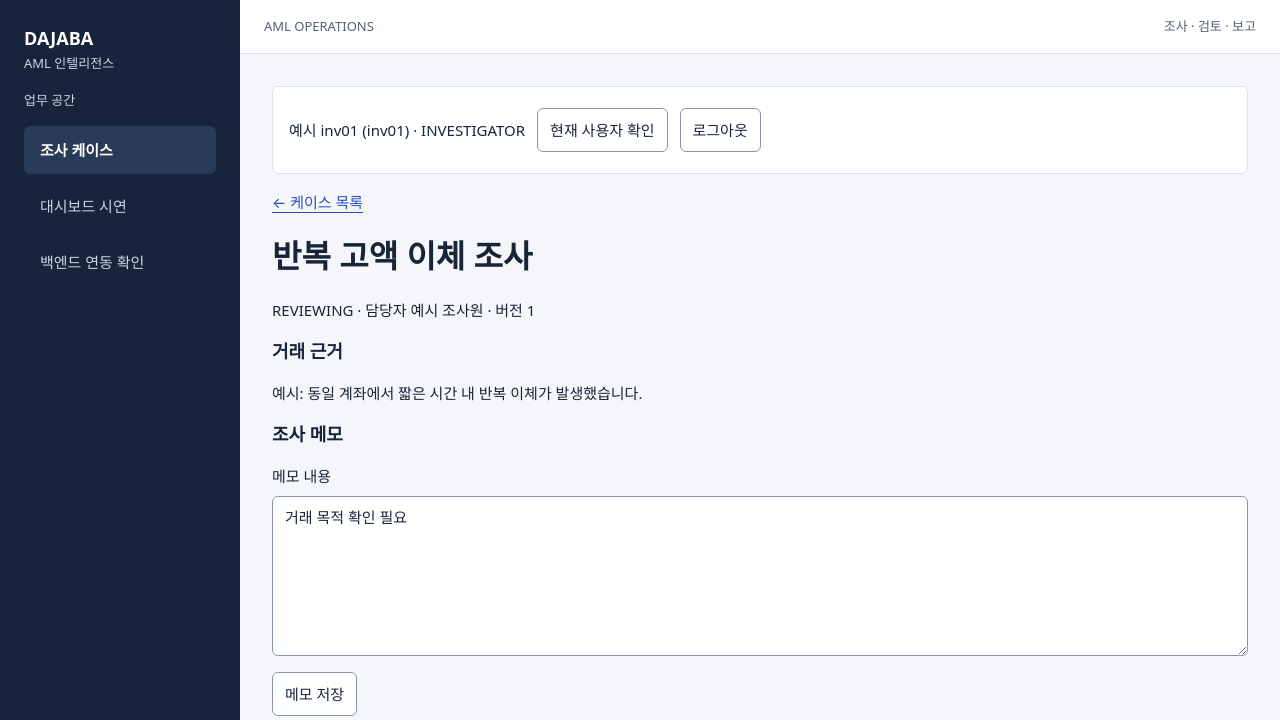
Test: 세션과 업무 정보 격리 › 로그아웃 후 도착하는 저장 응답이 업무 캐시를 복원하지 않는다
This screenshot has width=1280, height=720.
Expected: the text box labelled "메모 내용" is shown, [272,496,1248,656]
What coordinates should you click on to do the following:
click the button "메모 저장"
I would click on:
 (315, 694)
Its box is [272,672,357,716].
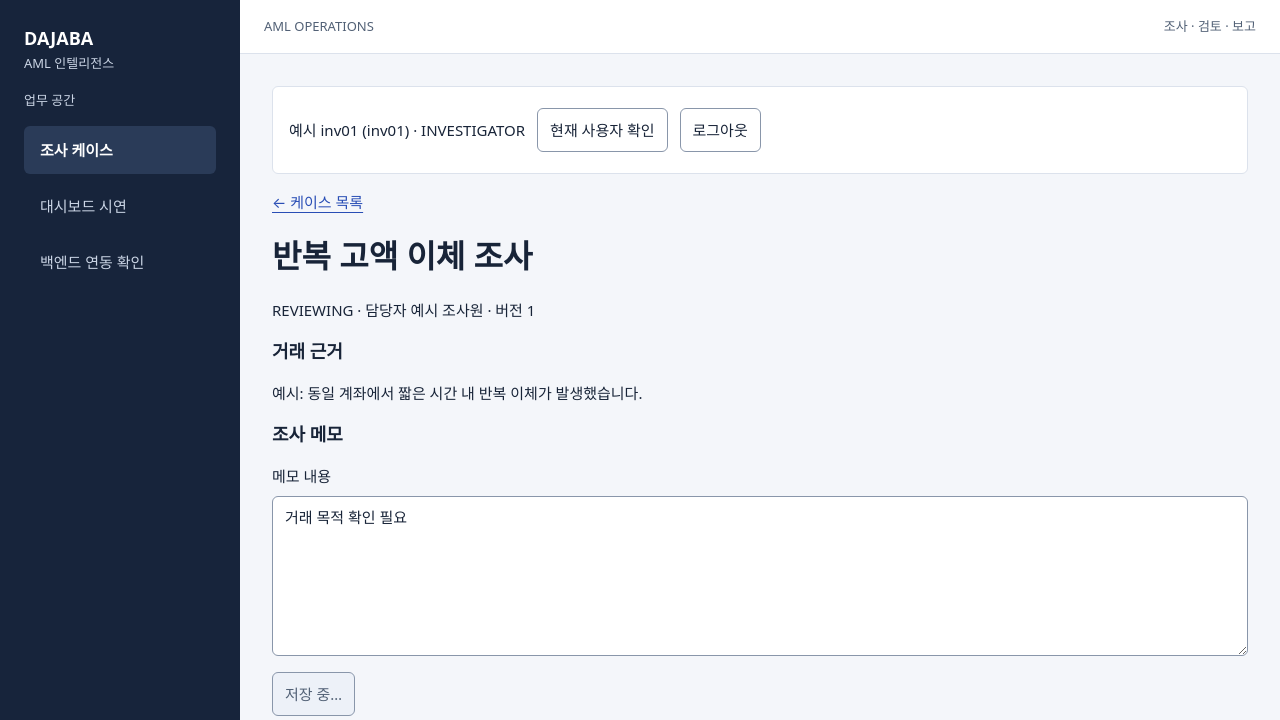
What coordinates should you click on to do the following:
click the button "로그아웃"
I would click on:
 (720, 130)
Its box is [680,108,761,152].
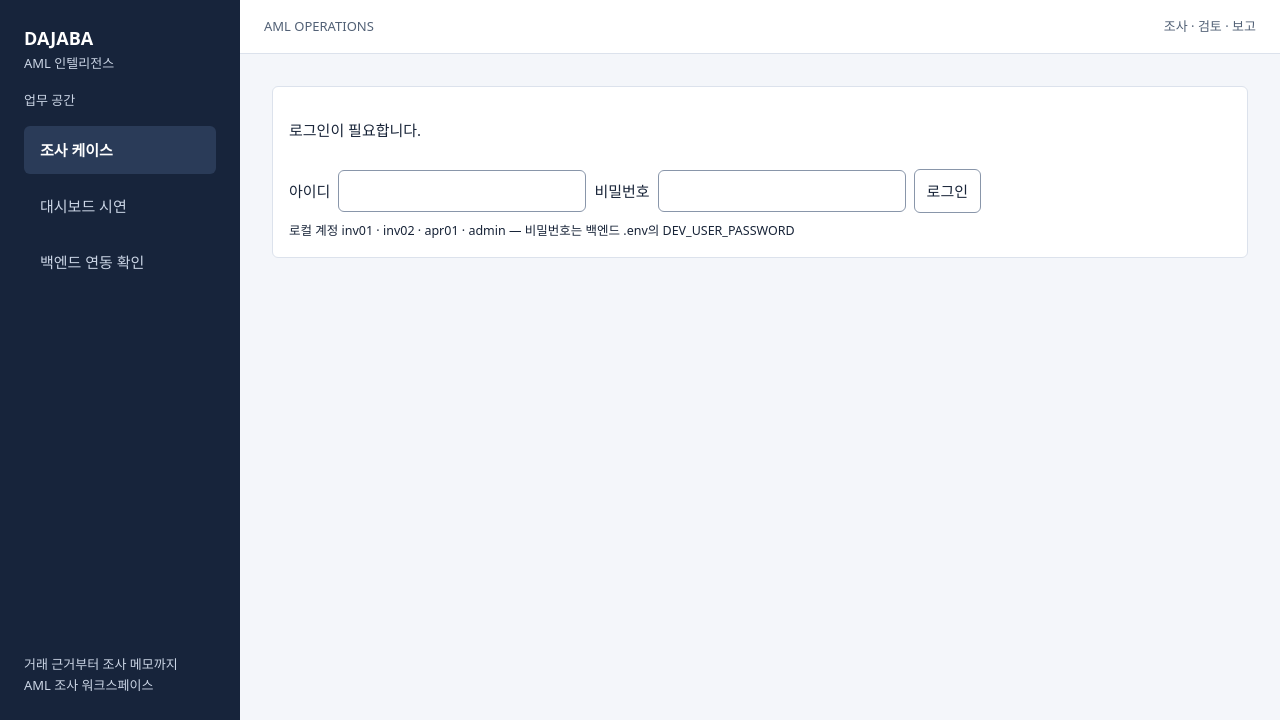
Result: the text "로그인이 필요합니다." is shown at [289,118,421,142]
